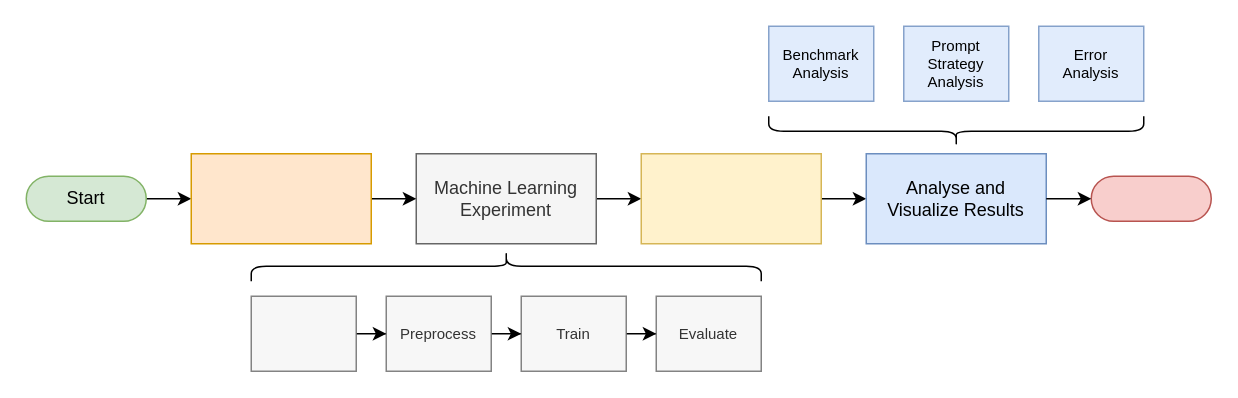
Some shapes in this 1238 by 398 pixel diagram are drawn without their labels. Here are the shapes that lost their labels. From the top down, the box of each, then its label:
(190, 152, 371, 244): Load Data
(640, 152, 821, 244): Store Results in Mlflow
(1090, 175, 1211, 221): End
(250, 295, 356, 371): Split Data
